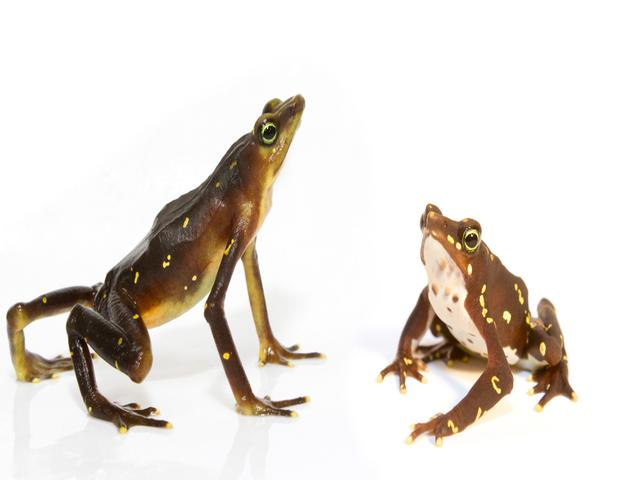frog: (1, 54, 395, 463), (351, 165, 606, 480)
